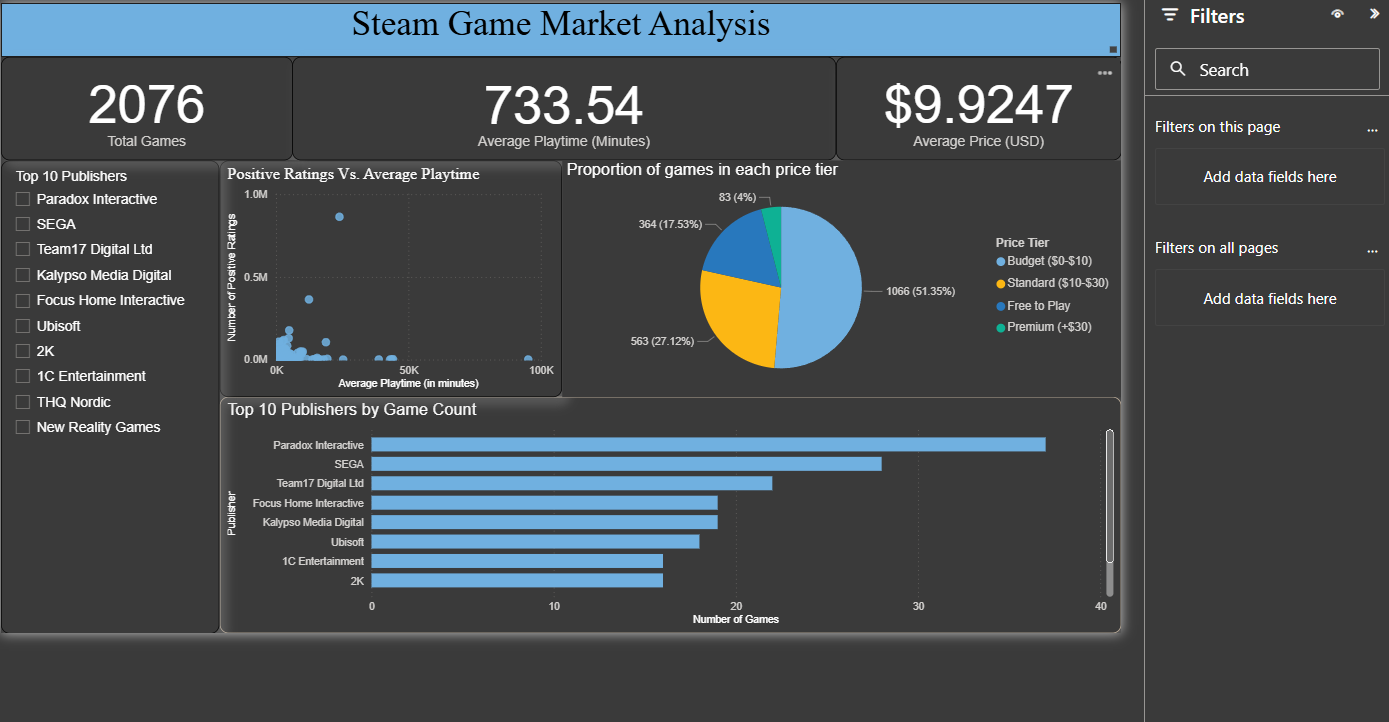

What the dashboard file says about the page in this screenshot:
{"tool":"powerbi","page":{"name":"Page 1","canvas":[1280,720],"ordinal":0},"visuals":[{"type":"shape","box":[0,0,1280.3,61.7],"z":0},{"type":"barChart","title":"Top 10 Publishers by Game Count","fields":{"Category":["Top 10 Publishers.publisher"],"Y":["Sum(Top 10 Publishers.Game Count )"]},"box":[249.7,450.1,1030.5,270.3],"z":1000},{"type":"scatterChart","title":"Positive Ratings Vs. Average Playtime","fields":{"X":["clean_games.average_playtime"],"Y":["clean_games.positive"]},"box":[249.7,179.8,391.1,270.3],"z":2000},{"type":"slicer","fields":{"Values":["Top 10 Publishers.publisher"]},"box":[0,179.8,249.7,540.7],"z":3000},{"type":"card","fields":{"Values":["Count(clean_games.appid)"]},"box":[0,61.7,333.4,118],"z":4000},{"type":"card","fields":{"Values":["Avg(clean_games.average_playtime)"]},"box":[332.9,61.4,621.4,118.6],"z":5000},{"type":"card","fields":{"Values":["Avg(clean_games.Price (USD))"]},"box":[953.7,61.7,326.6,118],"z":6000},{"type":"textbox","title":"Steam Game Market Analysis","box":[0,0,1280,61.4],"z":7000},{"type":"pieChart","title":"Proportion of games in each price tier","fields":{"Category":["clean_games.Price Tier"],"Y":["Count(clean_games.appid)"]},"box":[641.4,180,638.6,270],"z":8000}]}

Visuals, with their boxes on the page's 1280x720 design canvas (x1, y1, x2, y2). These are canvas units, not pixel positions in the 1389x722 screenshot, which may show the page scaled, cropped or inside an application window:
shape: (0, 0, 1280, 62)
"Top 10 Publishers by Game Count" barChart: (250, 450, 1280, 720)
"Positive Ratings Vs. Average Playtime" scatterChart: (250, 180, 641, 450)
slicer - Top 10 Publishers.publisher: (0, 180, 250, 720)
card - Count(clean_games.appid): (0, 62, 333, 180)
card - Avg(clean_games.average_playtime): (333, 61, 954, 180)
card - Avg(clean_games.Price (USD)): (954, 62, 1280, 180)
"Steam Game Market Analysis" textbox: (0, 0, 1280, 61)
"Proportion of games in each price tier" pieChart: (641, 180, 1280, 450)
